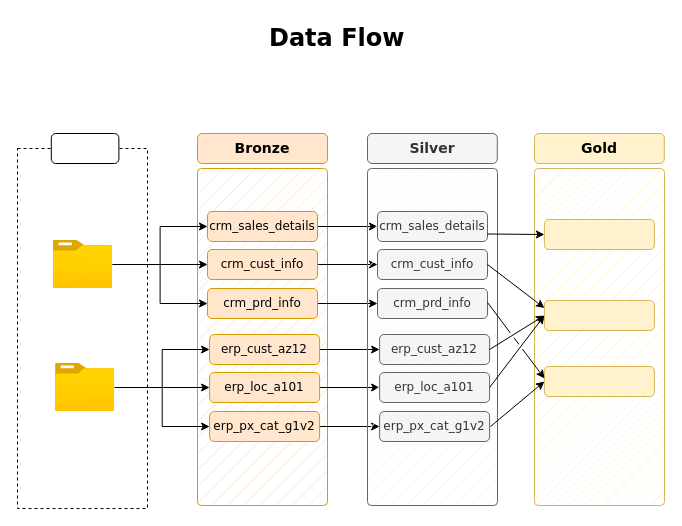
This 682x526 diagram has some shape labels left out. Each missing label, with the centre of its shape:
CRM: (82,264)
dim_customers: (598,315)
dim_products: (598,381)
ERP: (84,387)
fact_sales: (598,234)
Sources: (84,148)
